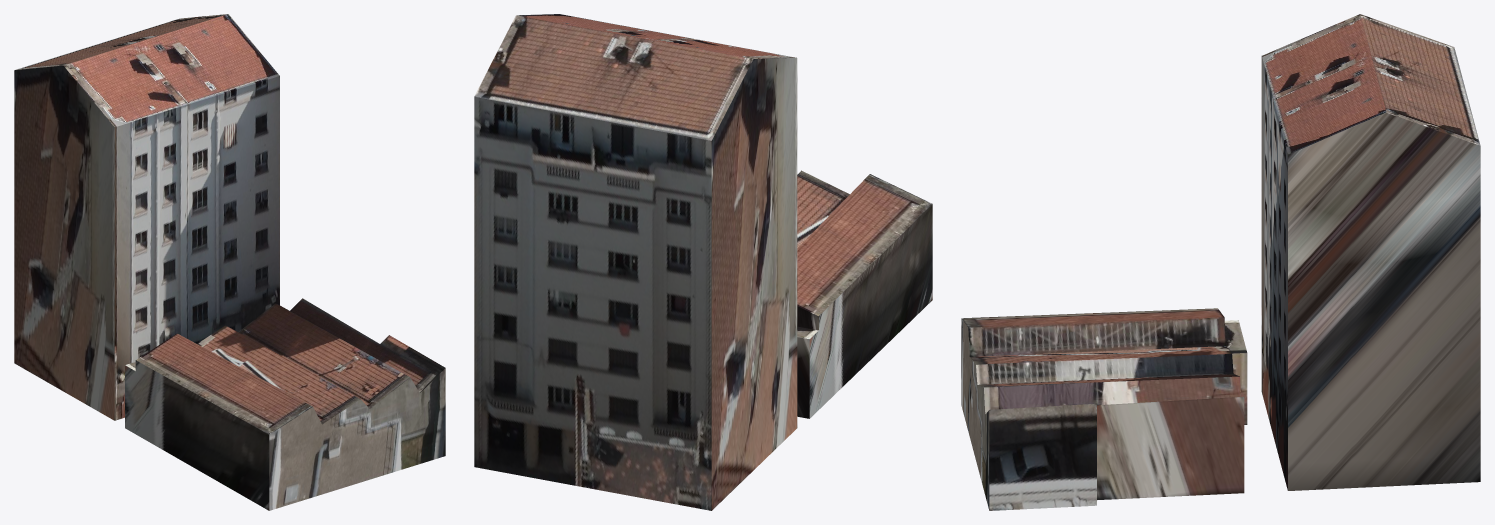
3 views of the same model, side by side, from view 1: azimuth 30°, elevation 25°; view 2: azimuth 150°, elevation 25°; view 3: azimuth 270°, elevation 25° (orthographic). The views are drawn at different scales.
Parts seen in each view (by area): view 1: Z_UP; view 2: Z_UP; view 3: Z_UP.
Part boxes in pixels (bbox=[...]): Z_UP: bbox=[14, 14, 445, 510]; Z_UP: bbox=[474, 14, 932, 510]; Z_UP: bbox=[961, 14, 1480, 510].
Size of the model in its own units: 20.66 by 28.17 by 35.47.
Materials: 2 (1 with a texture image).
